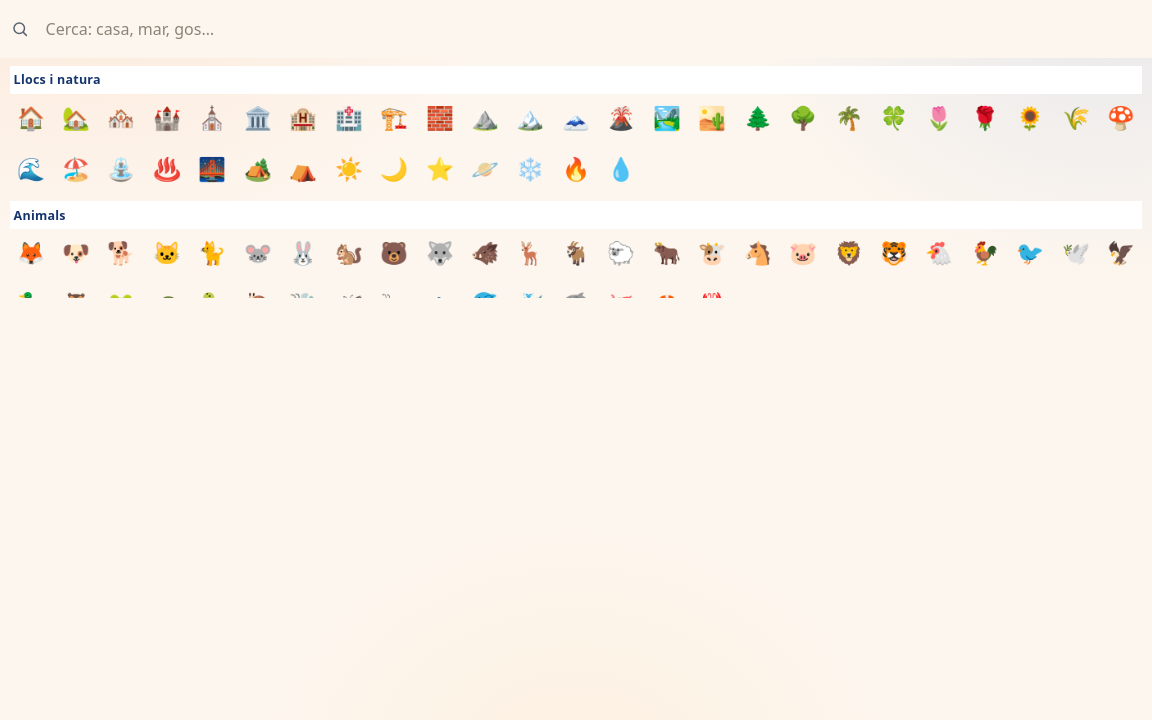
Scenario: EmojiPicker component › mostra un missatge quan cap emoji coincideix amb la cerca
Type "inexistent999" into the search field with placeholder "Cerca: casa, mar, gos…" at coordinates (589, 29), box left=37, top=9, right=1141, bottom=49
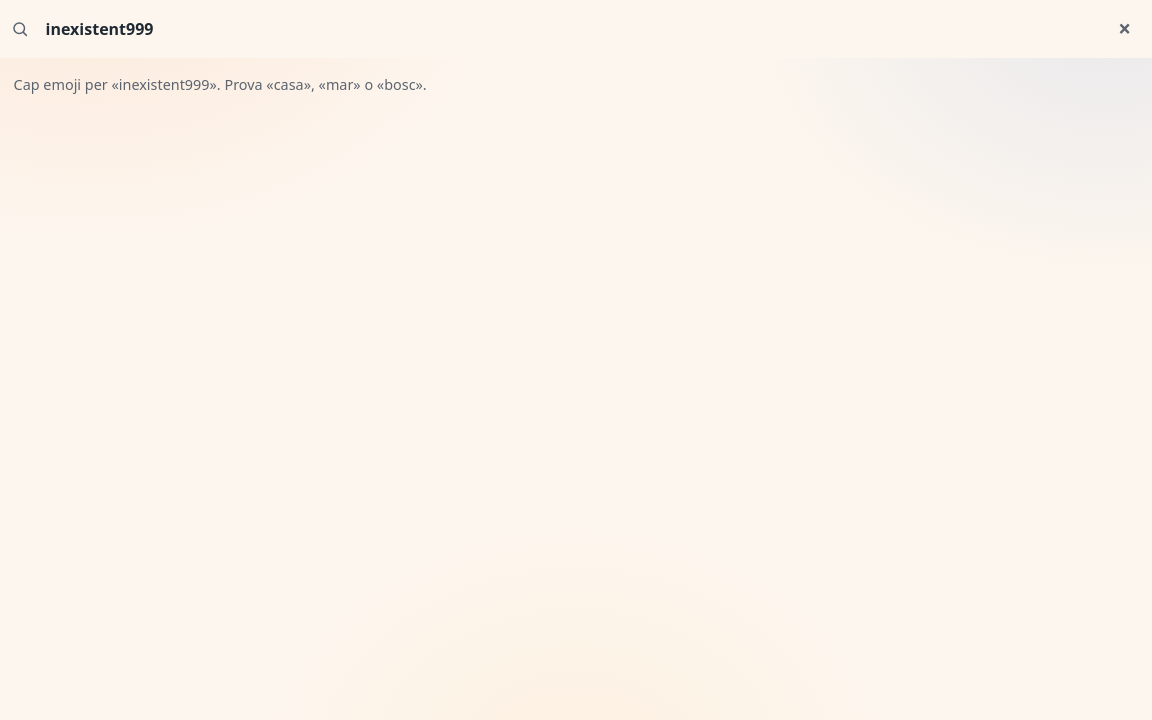
Now the text "Cap emoji per «inexistent999». Prova «casa», «mar» o «bosc»." is shown, box left=14, top=75, right=427, bottom=94
